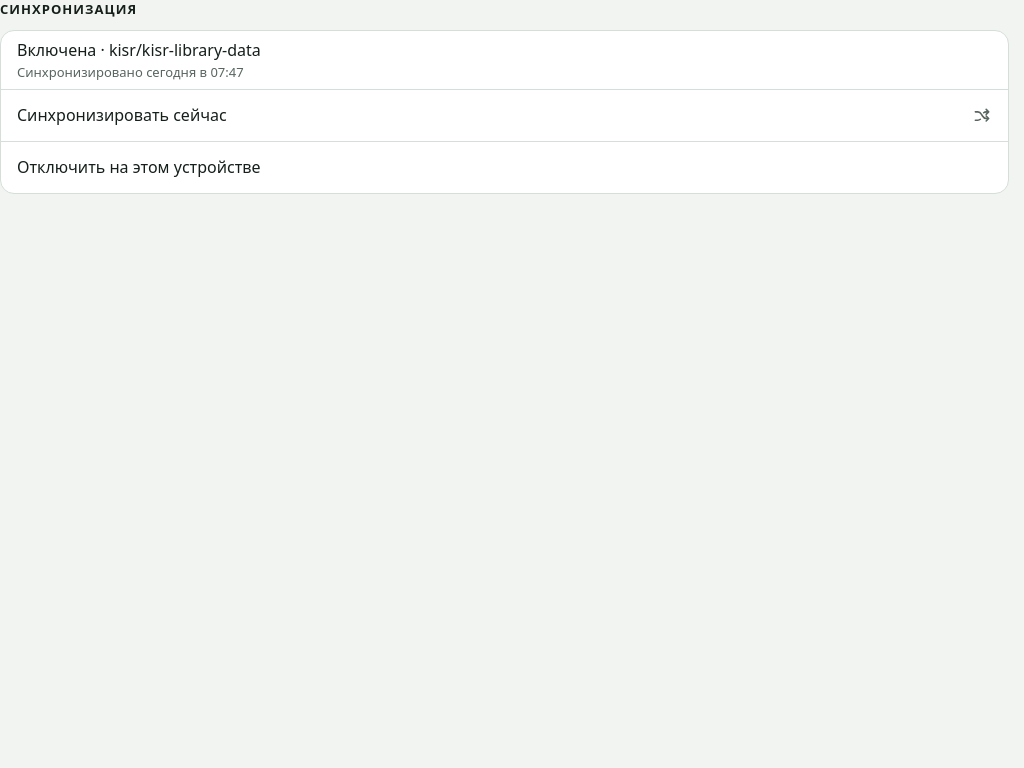
Test case: SyncSection: включена › «Отключить на этом устройстве» спрашивает подтверждение
The image size is (1024, 768).
Later steps or results of the test are not shown.
Step 1. Click the button "Отключить на этом устройстве" → coordinates (139, 167), box 1,141 -> 1008,193
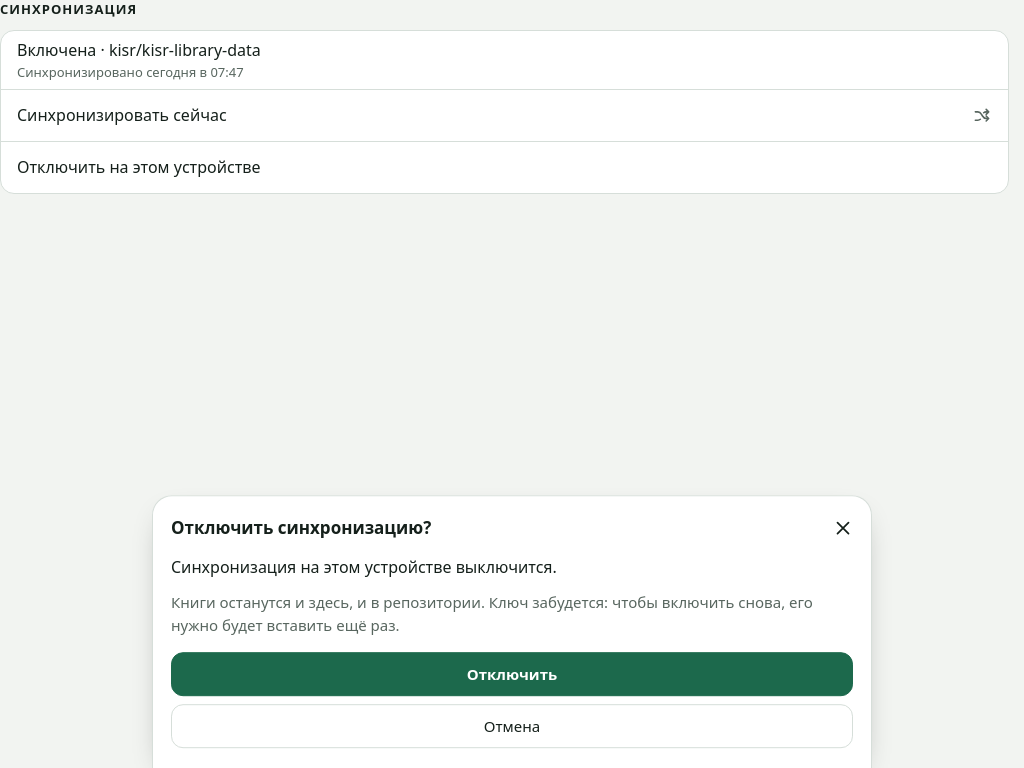
Result: the dialog with class "sheet" shows "Книги останутся" at 171,592 -> 813,635
